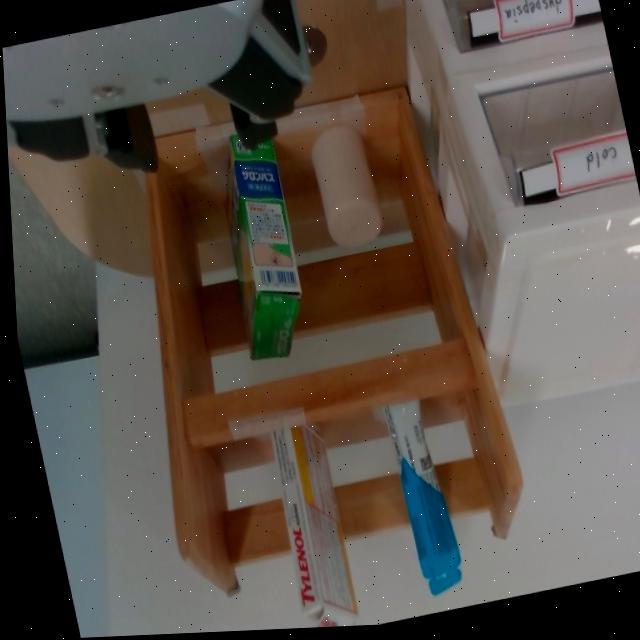bandage: (305, 122, 387, 248)
codaewon_syrup: (377, 393, 465, 602)
sore_patch: (205, 127, 316, 373)
tylenol: (260, 410, 363, 629)
